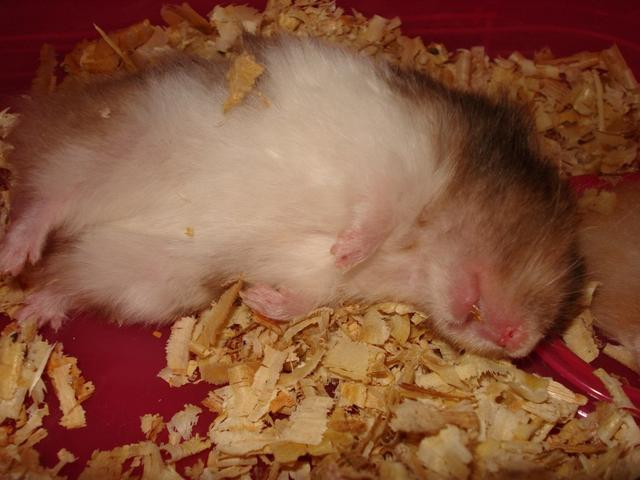mouse: (1, 44, 608, 341)
